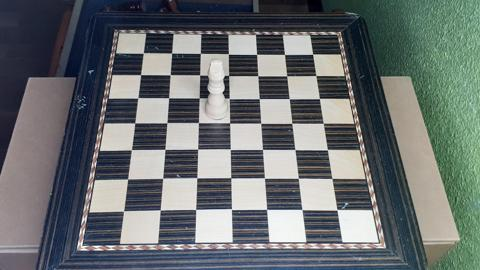xcorner: (225, 47, 234, 57), (226, 92, 235, 102), (227, 174, 237, 183), (335, 205, 344, 215), (138, 46, 147, 55), (135, 68, 144, 77), (132, 92, 141, 101), (129, 117, 138, 126), (126, 144, 135, 153), (122, 174, 131, 183), (118, 206, 127, 215), (167, 47, 176, 56), (165, 68, 174, 77), (164, 92, 173, 101), (162, 117, 171, 126), (160, 144, 169, 153), (158, 174, 167, 183), (155, 206, 164, 215), (196, 47, 205, 56), (195, 69, 204, 78), (195, 92, 204, 101), (194, 117, 203, 126), (193, 145, 202, 154), (193, 174, 202, 183), (192, 206, 201, 215), (225, 69, 234, 78), (226, 118, 235, 127), (227, 145, 236, 154), (228, 206, 237, 215), (253, 48, 262, 57), (255, 70, 264, 79), (256, 93, 265, 102), (258, 118, 267, 127), (260, 145, 269, 154), (262, 174, 271, 183), (264, 206, 273, 215), (282, 48, 291, 57), (284, 70, 293, 79), (287, 93, 296, 102), (290, 118, 299, 127), (293, 145, 302, 154), (296, 174, 305, 183), (300, 206, 309, 215), (310, 49, 319, 58), (313, 70, 322, 79), (317, 93, 326, 102), (321, 118, 330, 127), (326, 145, 335, 154), (330, 174, 339, 183)
